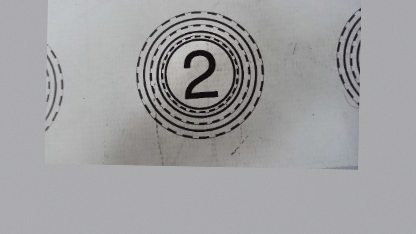2r: (131, 11, 264, 140)
